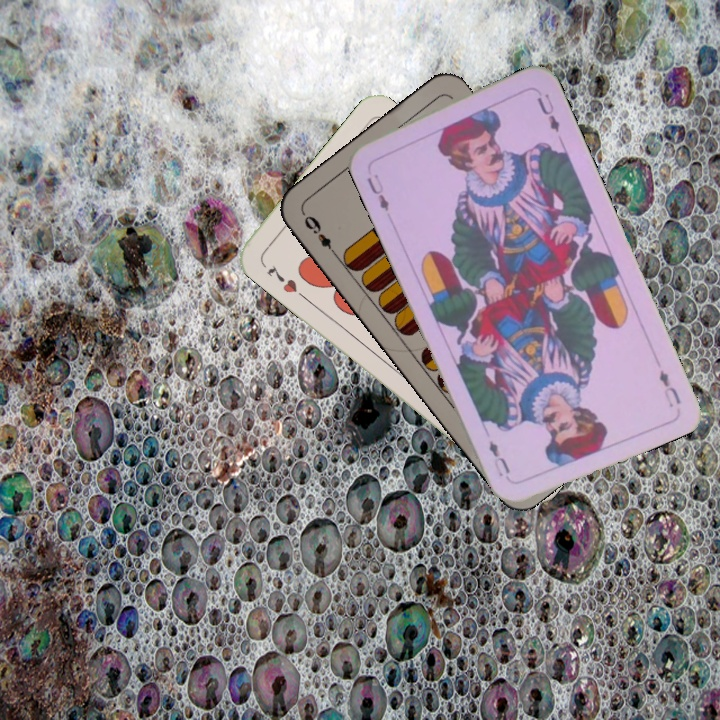E9: (298, 209, 340, 259)
EU: (362, 170, 392, 215), (654, 366, 684, 410)
H7: (263, 261, 309, 302)
